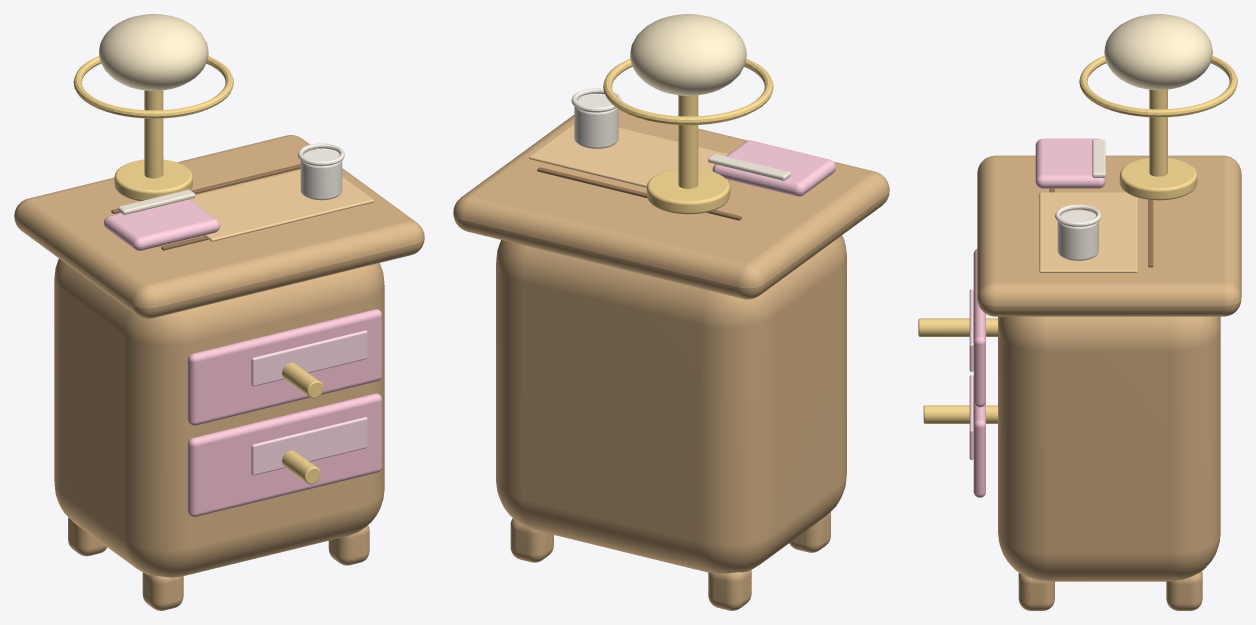
File: 目标图高级床头柜台灯组合.fbx
3 views of the same model, side by side, from view 1: azimuth 30°, elevation 25°; view 2: azimuth 150°, elevation 25°; view 3: azimuth 270°, elevation 25° (orthographic). The views are drawn at different scales.
Parts seen in each view (by area): view 1: 高级床头柜台灯组合_v346_圆角柜体, 高级床头柜台灯组合_v346_厚实圆角顶板, 高级床头柜台灯组合_v346_下层粉色柜门, 高级床头柜台灯组合_v346_上层粉色柜门, 高级床头柜台灯组合_v346_暖光奶油灯罩, 高级床头柜台灯组合_v346_桌面清漆柔光, 高级床头柜台灯组合_v346_粉色睡前书封面, 高级床头柜台灯组合_v346_粉色柜门柔亮面下, 高级床头柜台灯组合_v346_粉色柜门柔亮面上, 高级床头柜台灯组合_v346_金色小圆灯座, 高级床头柜台灯组合_v346_灯罩下沿金圈, 高级床头柜台灯组合_v346_奶油水杯 (+9 smaller); view 2: 高级床头柜台灯组合_v346_圆角柜体, 高级床头柜台灯组合_v346_厚实圆角顶板, 高级床头柜台灯组合_v346_暖光奶油灯罩, 高级床头柜台灯组合_v346_桌面清漆柔光, 高级床头柜台灯组合_v346_粉色睡前书封面, 高级床头柜台灯组合_v346_金色小圆灯座, 高级床头柜台灯组合_v346_灯罩下沿金圈, 高级床头柜台灯组合_v346_奶油水杯, 高级床头柜台灯组合_v346_细金灯杆, 高级床头柜台灯组合_v346_短圆木脚.001, 高级床头柜台灯组合_v346_短圆木脚.003, 高级床头柜台灯组合_v346_短圆木脚 (+2 smaller); view 3: 高级床头柜台灯组合_v346_圆角柜体, 高级床头柜台灯组合_v346_厚实圆角顶板, 高级床头柜台灯组合_v346_暖光奶油灯罩, 高级床头柜台灯组合_v346_桌面清漆柔光, 高级床头柜台灯组合_v346_粉色睡前书封面, 高级床头柜台灯组合_v346_金色小圆灯座, 高级床头柜台灯组合_v346_灯罩下沿金圈, 高级床头柜台灯组合_v346_奶油水杯, 高级床头柜台灯组合_v346_上层粉色柜门, 高级床头柜台灯组合_v346_细金灯杆, 高级床头柜台灯组合_v346_上抽屉金色拉手, 高级床头柜台灯组合_v346_下层粉色柜门 (+5 smaller).
Boxes of the visible parts, x1=… form: 高级床头柜台灯组合_v346_圆角柜体: x1=54, y1=258, x2=384, y2=577; 高级床头柜台灯组合_v346_厚实圆角顶板: x1=14, y1=135, x2=424, y2=318; 高级床头柜台灯组合_v346_下层粉色柜门: x1=187, y1=393, x2=382, y2=517; 高级床头柜台灯组合_v346_上层粉色柜门: x1=187, y1=309, x2=382, y2=425; 高级床头柜台灯组合_v346_暖光奶油灯罩: x1=99, y1=14, x2=208, y2=90; 高级床头柜台灯组合_v346_桌面清漆柔光: x1=189, y1=170, x2=374, y2=241; 高级床头柜台灯组合_v346_粉色睡前书封面: x1=104, y1=199, x2=219, y2=250; 高级床头柜台灯组合_v346_粉色柜门柔亮面下: x1=251, y1=417, x2=367, y2=475; 高级床头柜台灯组合_v346_粉色柜门柔亮面上: x1=251, y1=330, x2=367, y2=386; 高级床头柜台灯组合_v346_金色小圆灯座: x1=114, y1=159, x2=192, y2=201; 高级床头柜台灯组合_v346_灯罩下沿金圈: x1=73, y1=56, x2=233, y2=118; 高级床头柜台灯组合_v346_奶油水杯: x1=300, y1=149, x2=342, y2=200; 高级床头柜台灯组合_v346_圆角柜体: x1=496, y1=235, x2=846, y2=573; 高级床头柜台灯组合_v346_厚实圆角顶板: x1=453, y1=109, x2=889, y2=299; 高级床头柜台灯组合_v346_暖光奶油灯罩: x1=630, y1=14, x2=746, y2=95; 高级床头柜台灯组合_v346_桌面清漆柔光: x1=529, y1=124, x2=729, y2=187; 高级床头柜台灯组合_v346_粉色睡前书封面: x1=712, y1=140, x2=835, y2=196; 高级床头柜台灯组合_v346_金色小圆灯座: x1=646, y1=168, x2=730, y2=214; 高级床头柜台灯组合_v346_灯罩下沿金圈: x1=603, y1=58, x2=773, y2=125; 高级床头柜台灯组合_v346_奶油水杯: x1=574, y1=94, x2=618, y2=148; 高级床头柜台灯组合_v346_细金灯杆: x1=678, y1=95, x2=698, y2=188; 高级床头柜台灯组合_v346_短圆木脚.001: x1=708, y1=570, x2=751, y2=610; 高级床头柜台灯组合_v346_短圆木脚.003: x1=510, y1=518, x2=553, y2=562; 高级床头柜台灯组合_v346_短圆木脚: x1=789, y1=512, x2=830, y2=552; 高级床头柜台灯组合_v346_圆角柜体: x1=998, y1=316, x2=1220, y2=581; 高级床头柜台灯组合_v346_厚实圆角顶板: x1=977, y1=155, x2=1241, y2=316; 高级床头柜台灯组合_v346_暖光奶油灯罩: x1=1104, y1=14, x2=1212, y2=90; 高级床头柜台灯组合_v346_桌面清漆柔光: x1=1039, y1=192, x2=1137, y2=272; 高级床头柜台灯组合_v346_粉色睡前书封面: x1=1035, y1=138, x2=1105, y2=188; 高级床头柜台灯组合_v346_金色小圆灯座: x1=1119, y1=158, x2=1197, y2=200; 高级床头柜台灯组合_v346_灯罩下沿金圈: x1=1079, y1=55, x2=1237, y2=117; 高级床头柜台灯组合_v346_奶油水杯: x1=1057, y1=210, x2=1098, y2=260; 高级床头柜台灯组合_v346_上层粉色柜门: x1=973, y1=249, x2=985, y2=407; 高级床头柜台灯组合_v346_细金灯杆: x1=1149, y1=89, x2=1167, y2=176; 高级床头柜台灯组合_v346_上抽屉金色拉手: x1=918, y1=318, x2=997, y2=336; 高级床头柜台灯组合_v346_下层粉色柜门: x1=973, y1=403, x2=985, y2=497.
Size of the model in its own units: 64 by 111 by 62.35.
